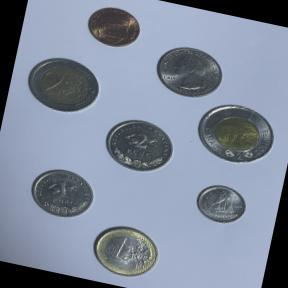coin: (190, 97, 284, 173), (17, 48, 106, 120), (94, 108, 182, 180), (84, 217, 164, 284), (149, 39, 228, 105), (79, 0, 145, 55), (189, 178, 253, 230)
